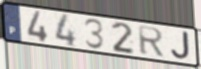2: (110, 22, 137, 56)
3: (84, 18, 106, 51)
4: (54, 13, 79, 49), (25, 10, 50, 44)
J: (170, 31, 191, 62)
R: (136, 25, 166, 58)
